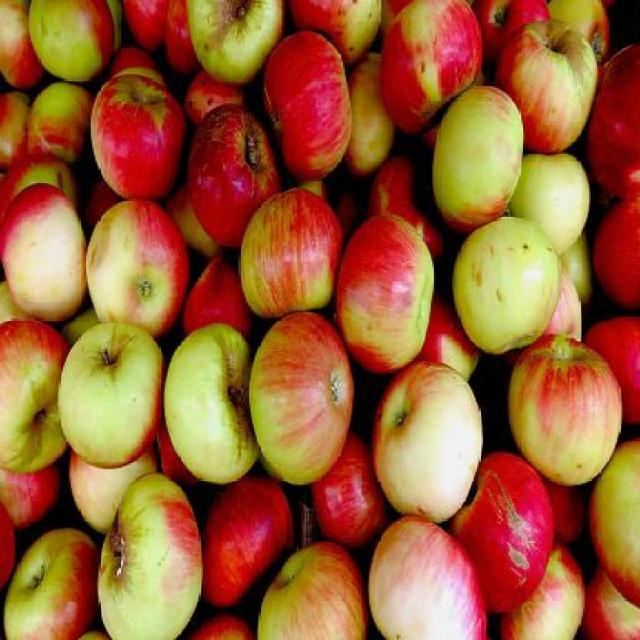Apple pie: (0, 0, 638, 638), (514, 336, 618, 497)
